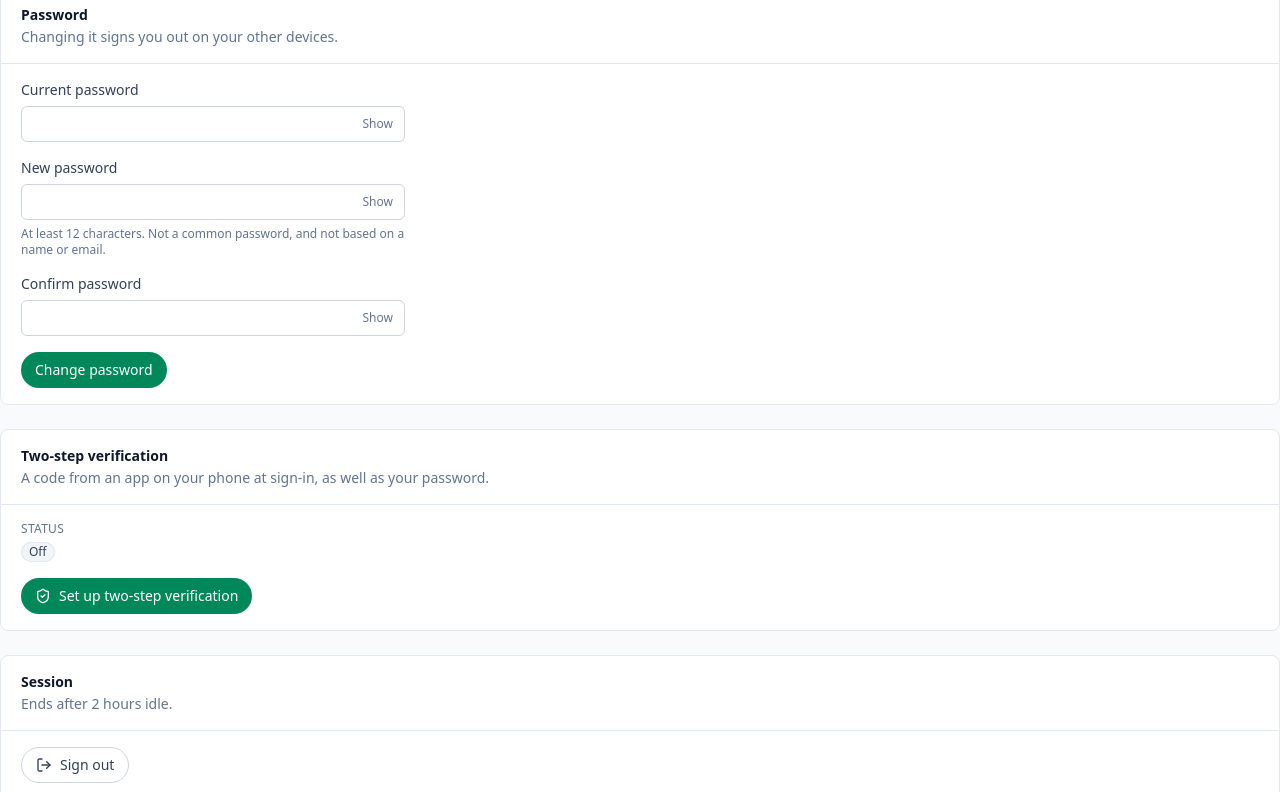
Test case: ProfilePage: two-step verification (ADR-0033) › can cancel the set-up
(page scrolled)
Click the button "Set up two-step verification" at (137, 596), box [21,578,252,614]
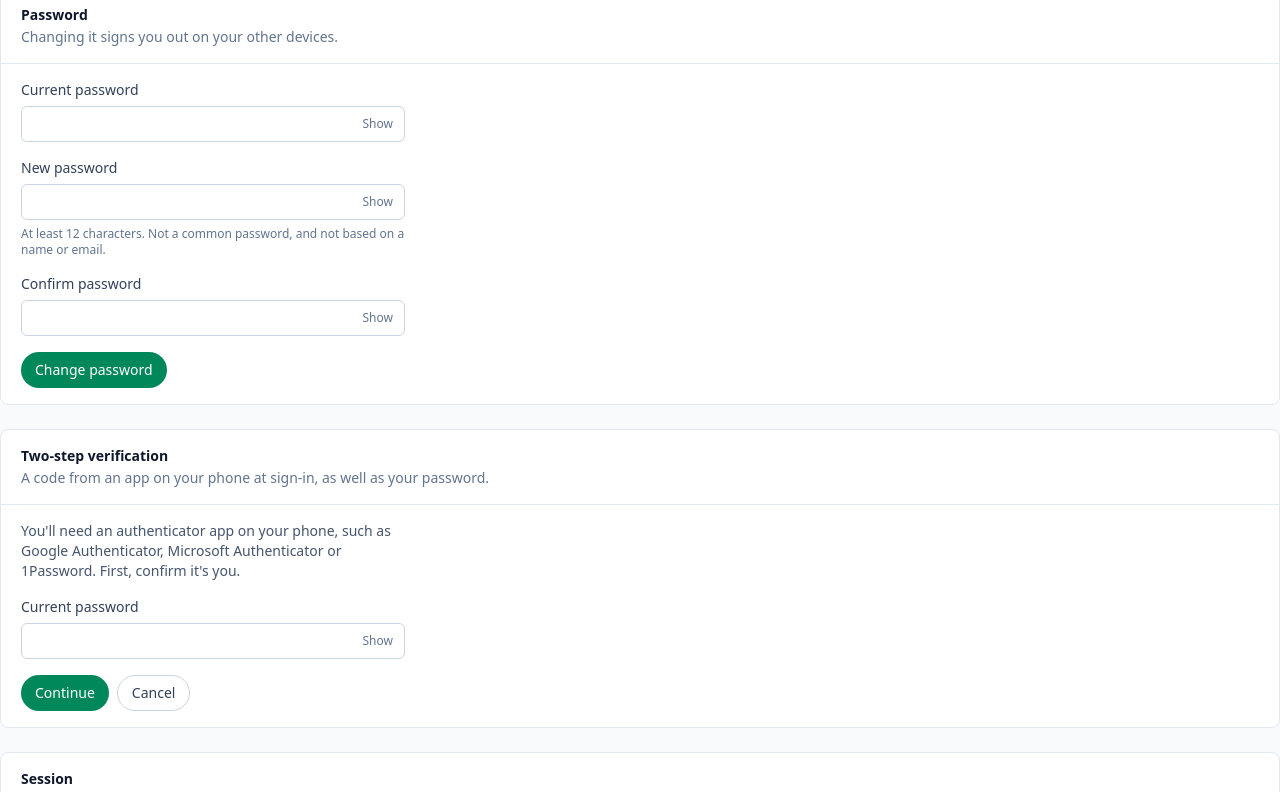
Click the button "Cancel" at (154, 693), box [117,675,190,711]
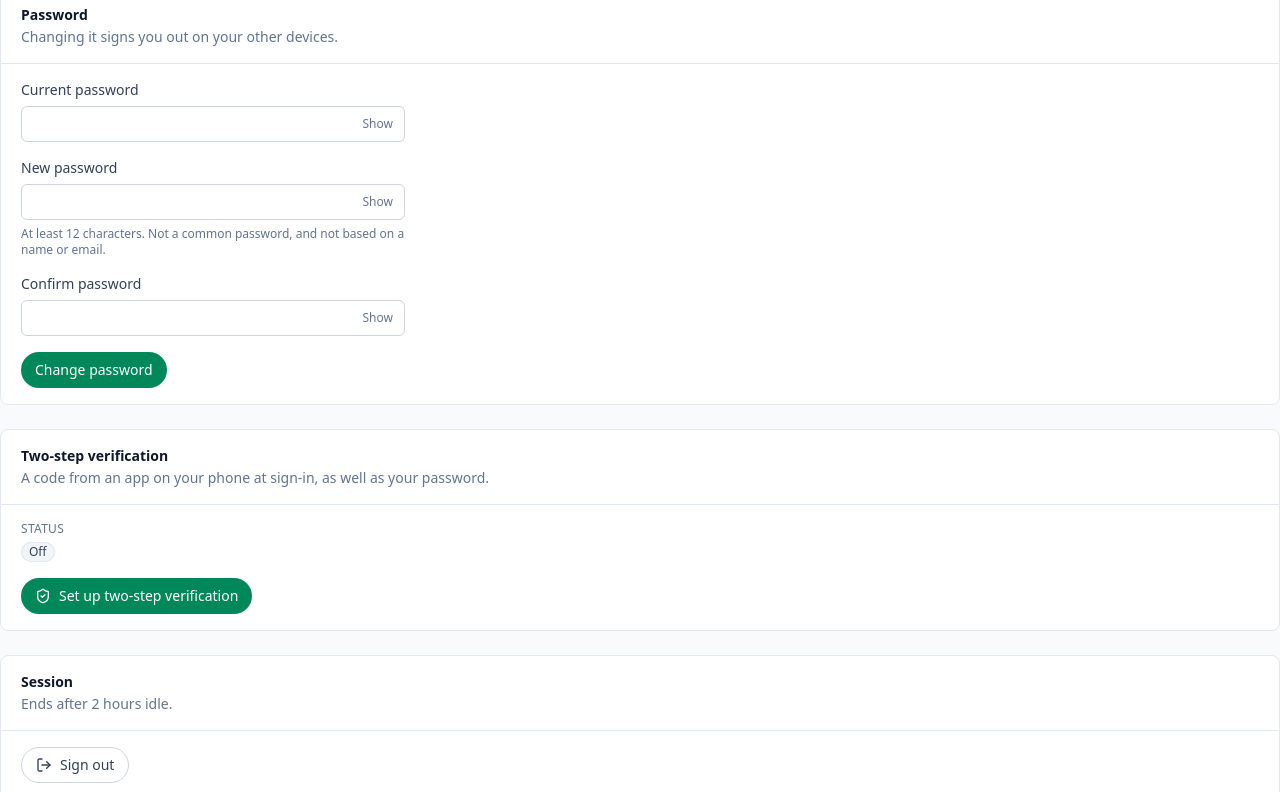
expect the button "Set up two-step verification" is shown: met, box [21,578,252,614]
